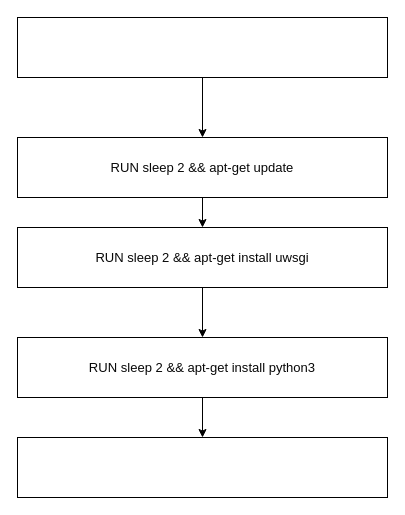
This 405x515 diagram has some shape labels left out. Each missing label, with the centre of its shape:
"COPY imgs ." belongs at pixel 202 467.
"FROM ubuntu:latest" belongs at pixel 202 47.
